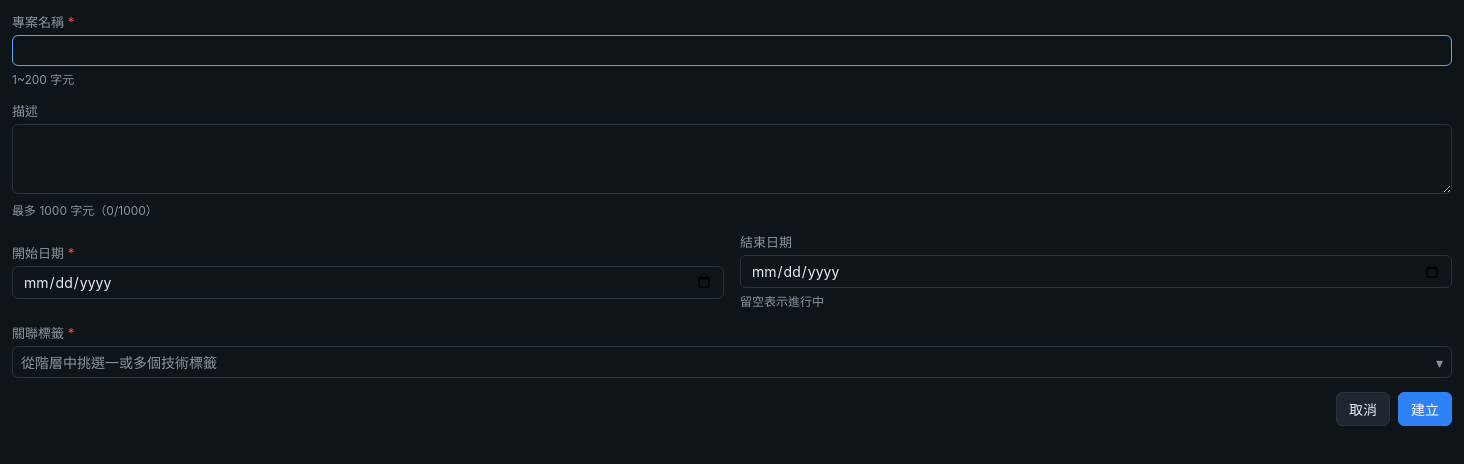
it: ProjectForm › PRMS-TC02: requires start date and at least one tag
In the field: (732,50) [12, 35, 1452, 66], type "Valid Name"
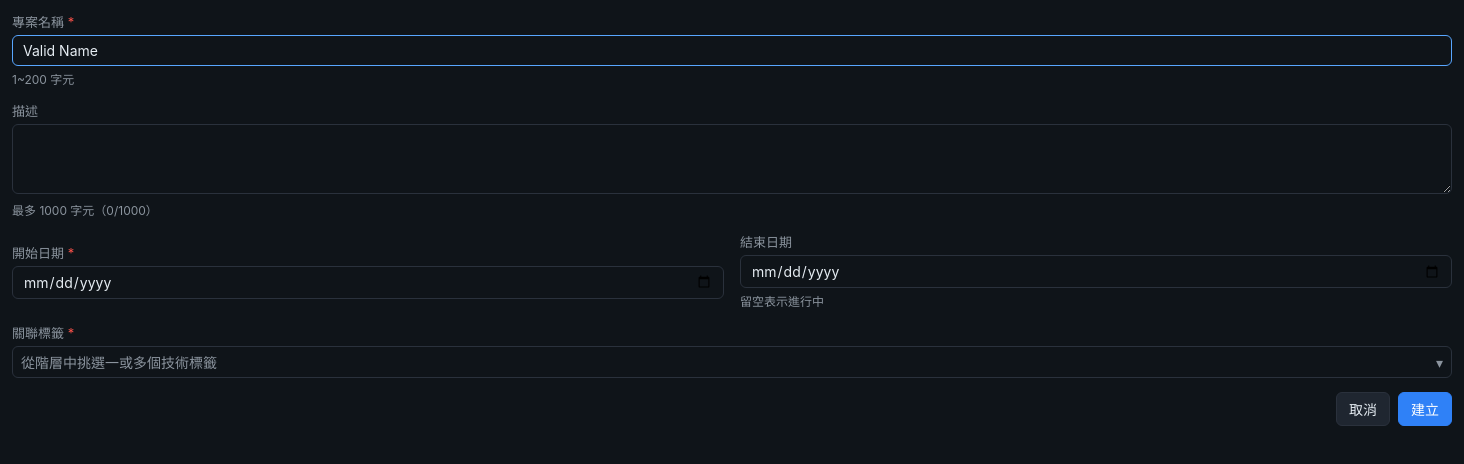
Click the button "建立": (1425,409) [1398, 392, 1452, 426]
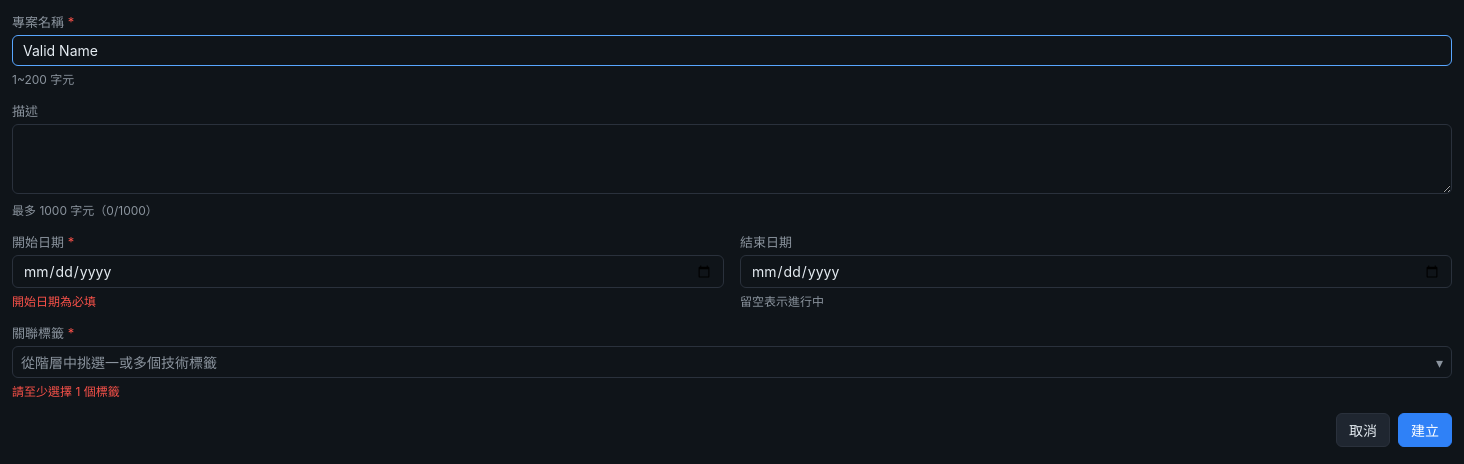
Now the text "開始日期為必填" is shown, box [12, 294, 96, 309]
Now the text "請至少選擇 1 個標籤" is shown, box [12, 384, 120, 399]
